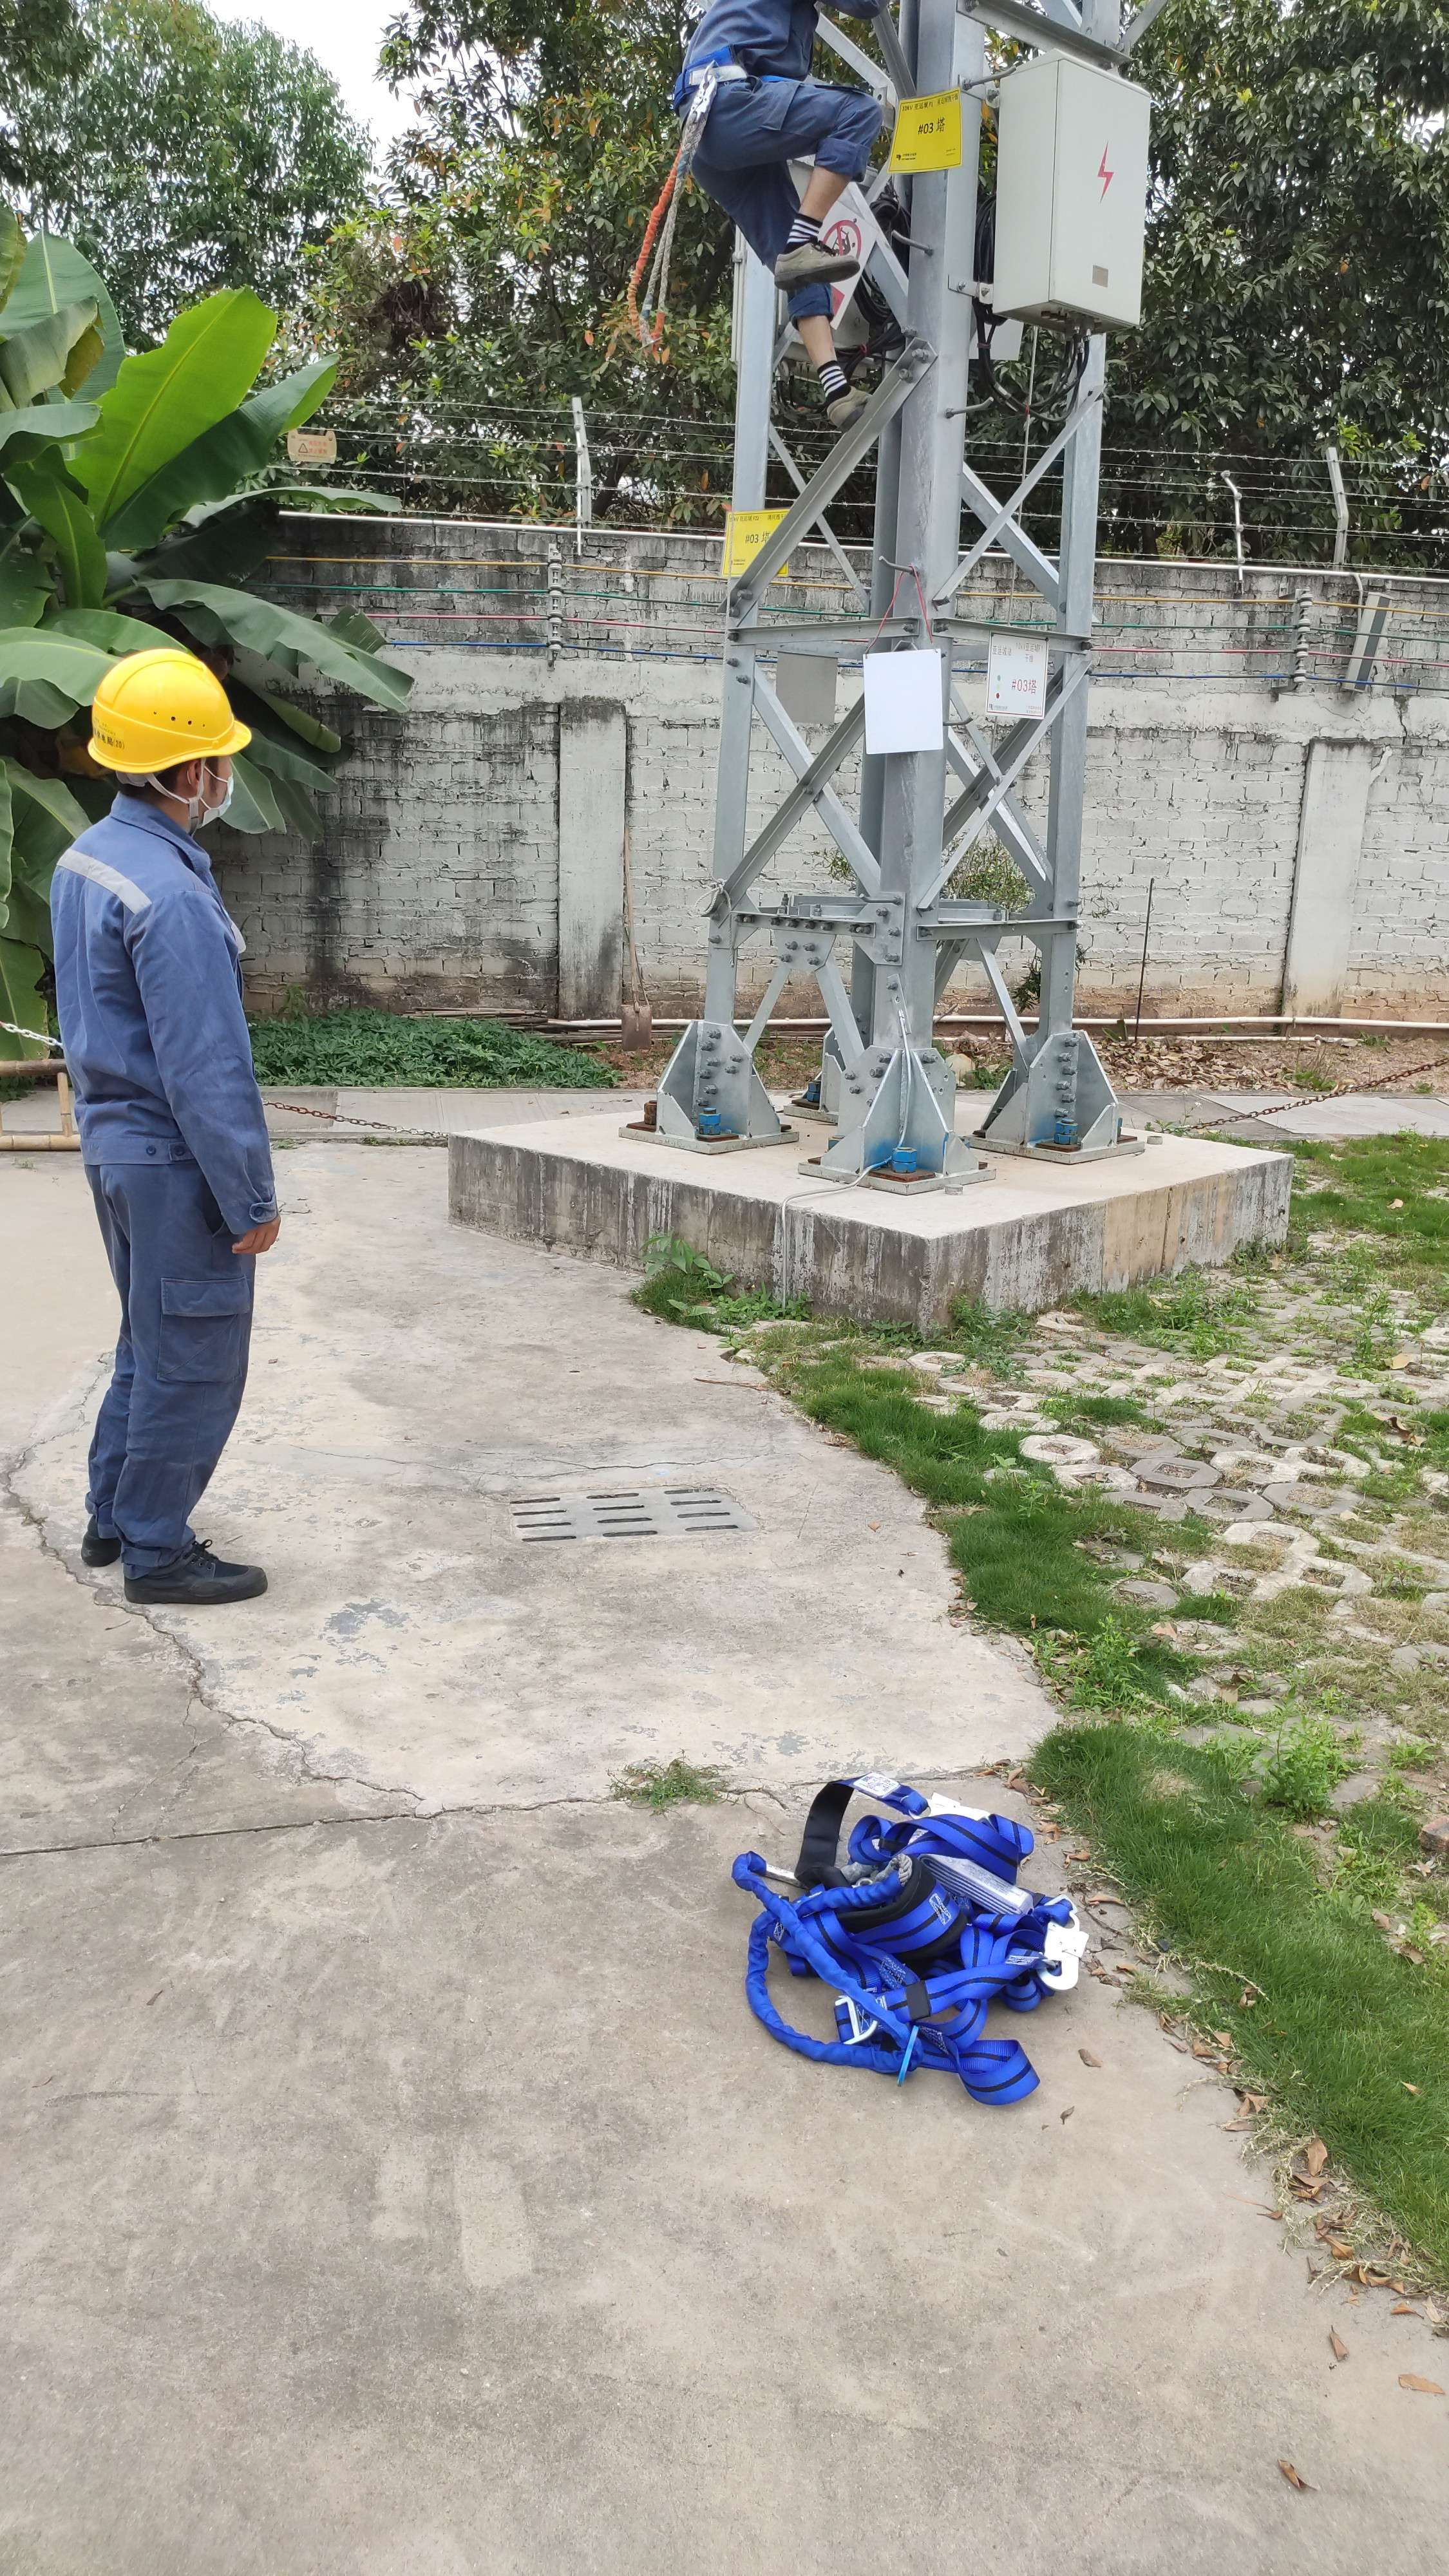downsuit: (88, 1182, 262, 1545), (688, 85, 883, 306)
upsuit: (46, 796, 272, 1152)
wrongbottom: (791, 143, 855, 226), (798, 292, 835, 357)
